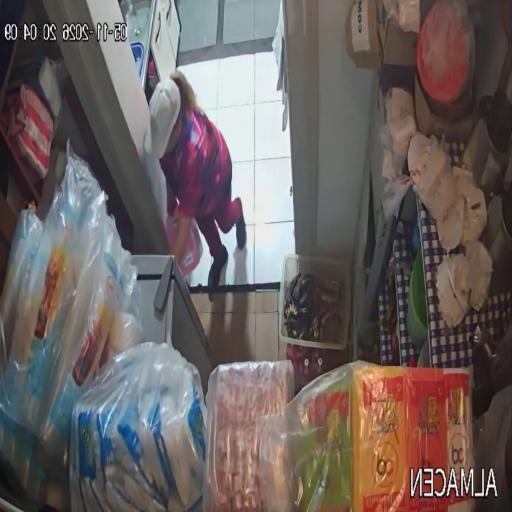Envase para platanos: (279, 255, 351, 350)
Persona2: (144, 72, 246, 285)
Productos culinarios: (0, 140, 137, 503), (286, 360, 475, 512), (70, 343, 206, 512), (203, 361, 294, 512)
Taper: (407, 250, 428, 349)
Taper2: (417, 340, 430, 367)
